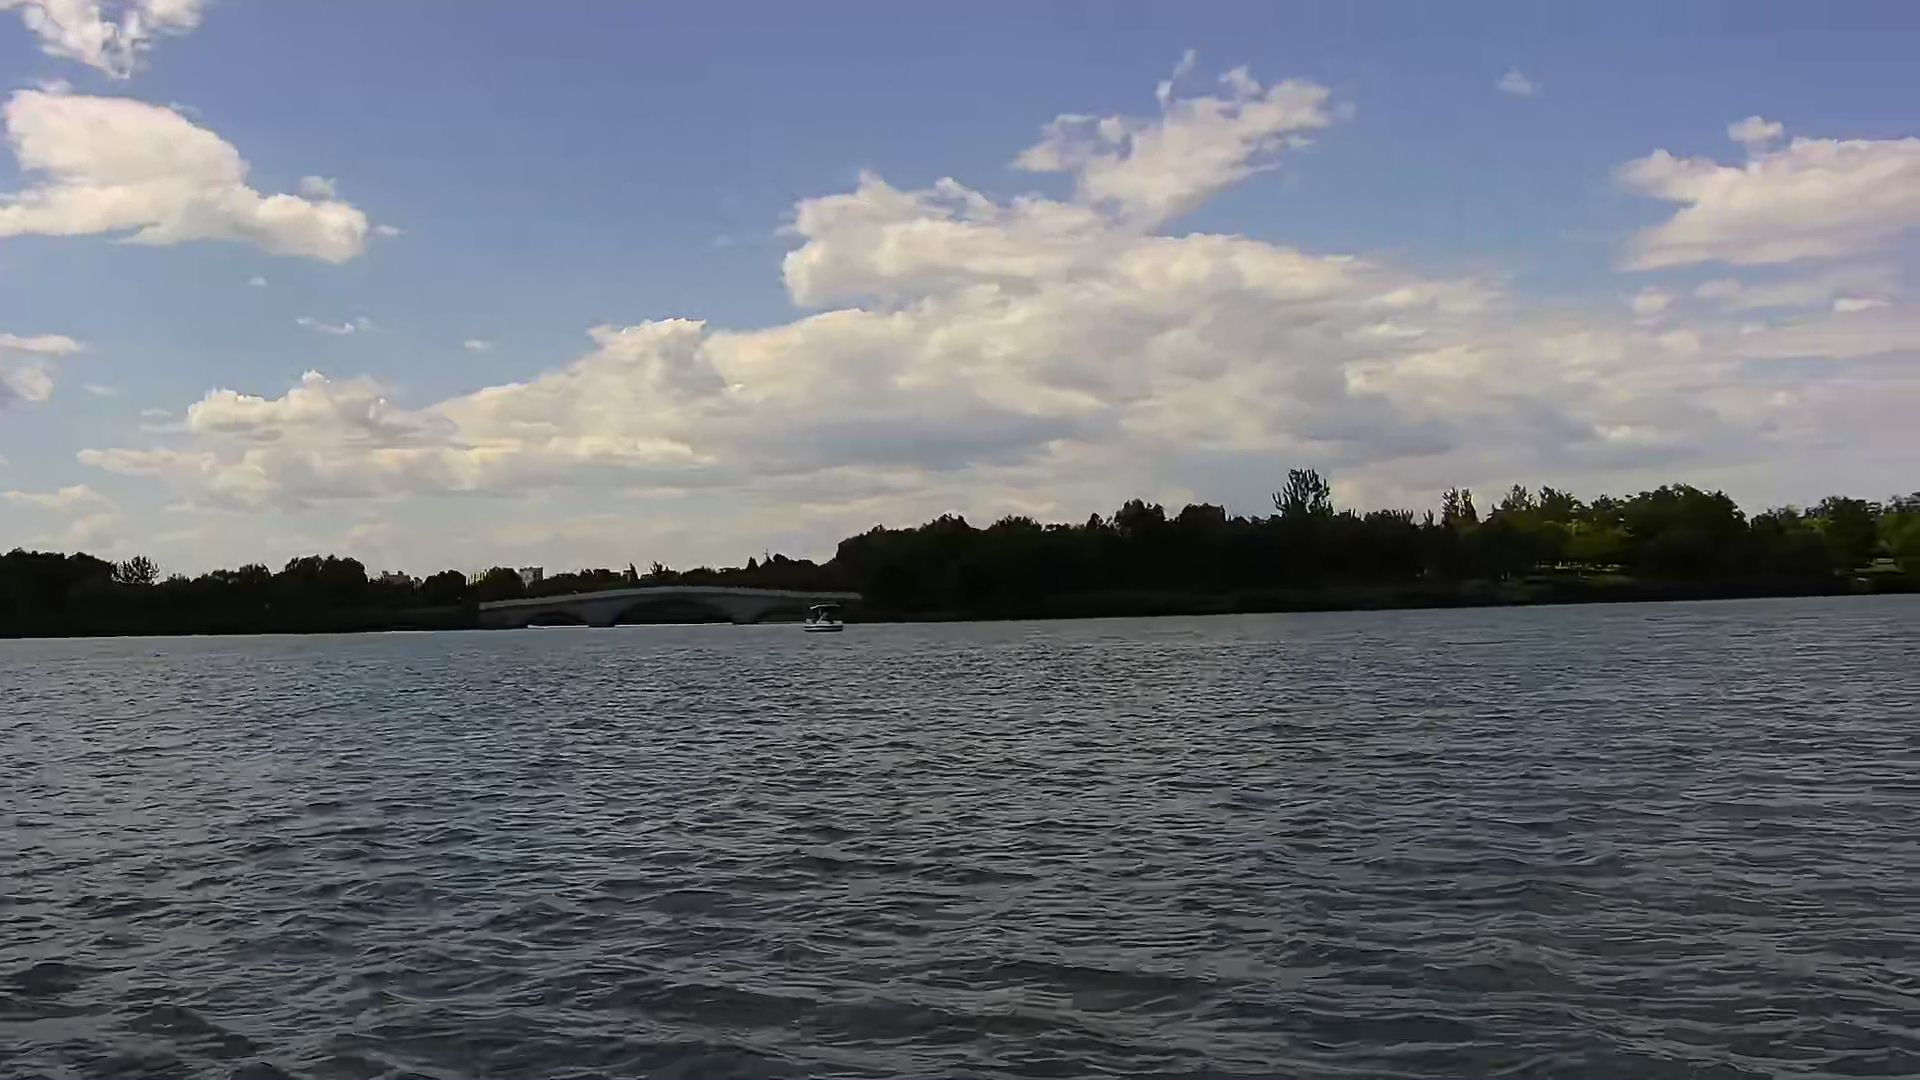boat: (795, 599, 847, 632)
bridge: (481, 587, 864, 629)
